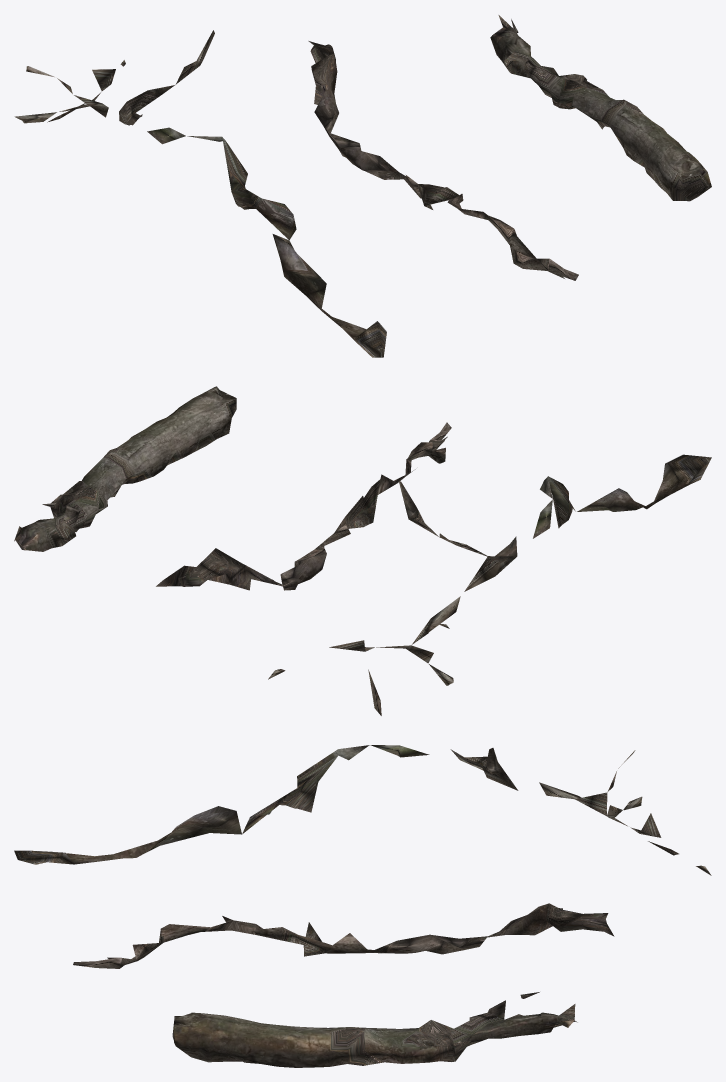
The model's file is dry_branches_medium_01_lod1.glb.
The picture shows the model from 3 angles, top to bottom: view 1: azimuth 30°, elevation 25°; view 2: azimuth 150°, elevation 25°; view 3: azimuth 270°, elevation 25°; orthographic projection. The views are drawn at different scales.
Parts seen in each view (by area): view 1: dry_branches_medium_01_c; view 2: dry_branches_medium_01_c; view 3: dry_branches_medium_01_c.
Boxes of the visible parts, x1,y1,x2,y2 form: dry_branches_medium_01_c: (14, 15, 711, 357); dry_branches_medium_01_c: (14, 386, 711, 715); dry_branches_medium_01_c: (14, 745, 711, 1067).
Size of the model in its own units: 1.05 by 0.3047 by 1.28.
1 material, 1 textured.
